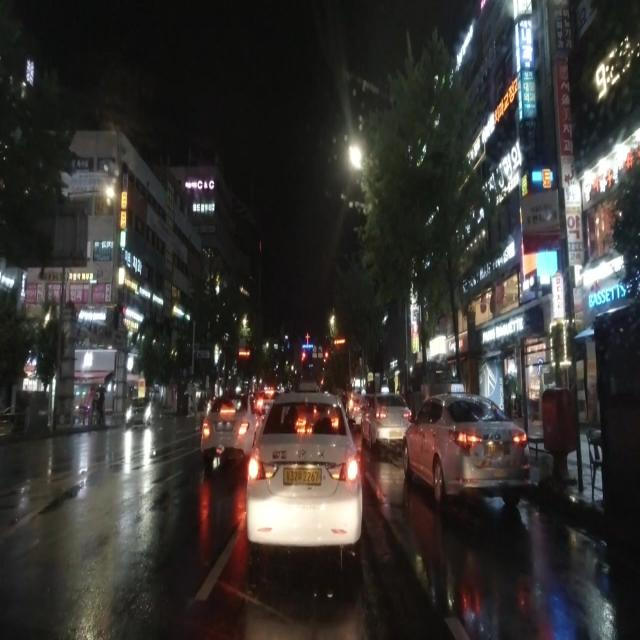Car: (246, 392, 361, 550), (403, 392, 527, 505), (200, 395, 248, 459), (361, 392, 402, 444)
